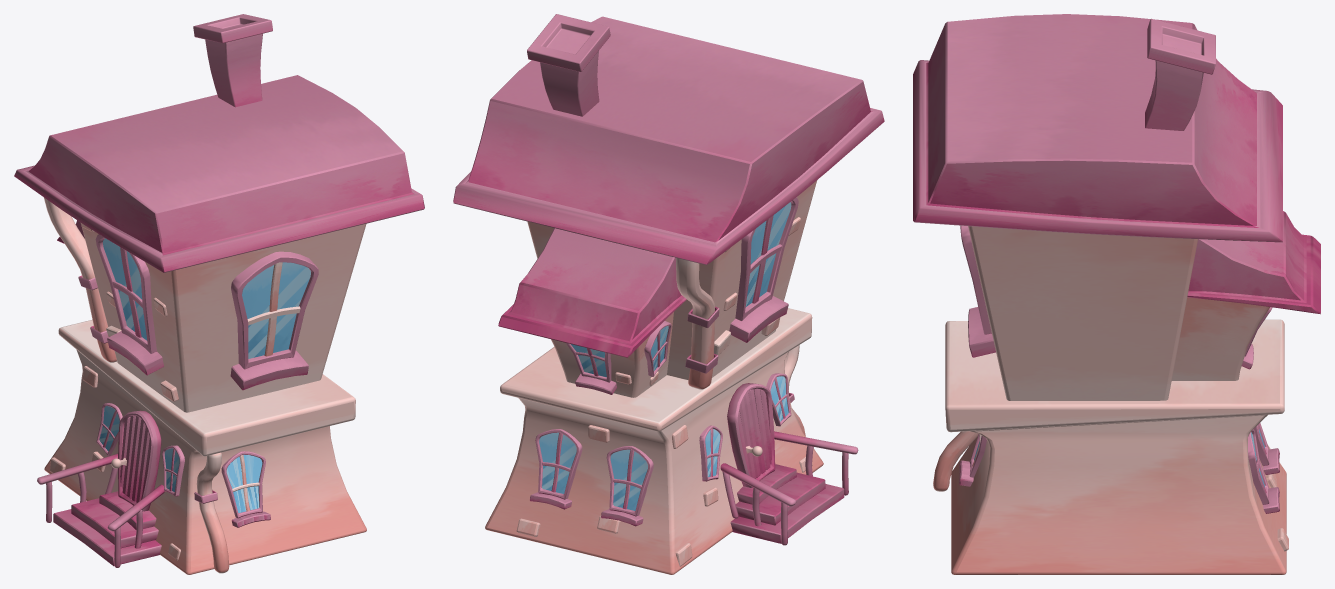
The model's file is HouseA_v2.fbx.
3 renders of one model, left to right at view 1: azimuth 30°, elevation 25°; view 2: azimuth 150°, elevation 25°; view 3: azimuth 270°, elevation 25°, orthographic. The views are drawn at different scales.
Visible parts, largest first — view 1: HouseA_Base.001, HouseA_roofs.001, HouseA_pipe.001, HouseA_Stairs.001, HouseA_pipes.001, HouseA_Windows.009, HouseA_door.001, HouseA_windowframes.010, HouseA_railings.001, HouseA_windowframes.018, HouseA_windowseals.008, HouseA_Windows.017 (+6 smaller); view 2: HouseA_roofs.001, HouseA_Base.001, HouseA_pipe.001, HouseA_Stairs.001, HouseA_door.001, HouseA_pipes.001, HouseA_railings.001, HouseA_windowframes.018, HouseA_Windows.017, HouseA_Windows.013, HouseA_Windows.014, HouseA_windowseals.012 (+7 smaller); view 3: HouseA_Base.001, HouseA_roofs.001, HouseA_pipe.001, HouseA_pipes.001, HouseA_windowframes.010, HouseA_windowseals.008, HouseA_windowframes.015.
Part boxes in pixels (x1,y1,x2,y2): HouseA_Base.001: (44,223,366,574); HouseA_roofs.001: (14,75,424,272); HouseA_pipe.001: (193,14,272,107); HouseA_Stairs.001: (53,491,161,566); HouseA_pipes.001: (44,197,229,573); HouseA_Windows.009: (242,262,310,358); HouseA_door.001: (118,410,161,511); HouseA_windowframes.010: (231,251,318,369); HouseA_railings.001: (37,453,164,567); HouseA_windowframes.018: (95,234,156,353); HouseA_windowseals.008: (230,350,308,390); HouseA_Windows.017: (103,238,147,340); HouseA_roofs.001: (453,16,884,357); HouseA_Base.001: (485,180,823,574); HouseA_pipe.001: (527,14,610,116); HouseA_Stairs.001: (730,464,844,543); HouseA_door.001: (727,383,775,487); HouseA_pipes.001: (676,258,805,436); HouseA_railings.001: (720,431,858,545); HouseA_windowframes.018: (735,197,798,320); HouseA_Windows.017: (745,202,791,306); HouseA_Windows.013: (610,449,647,510); HouseA_Windows.014: (539,432,576,493); HouseA_windowseals.012: (729,296,788,342); HouseA_Base.001: (945,226,1286,574); HouseA_roofs.001: (913,14,1320,314); HouseA_pipe.001: (1145,18,1215,130); HouseA_pipes.001: (933,431,978,491); HouseA_windowframes.010: (960,225,991,334); HouseA_windowseals.008: (968,307,995,357); HouseA_windowframes.015: (1248,429,1269,504).
Bounding box in the file's own units: 3.58 × 3.85 × 5.45.
